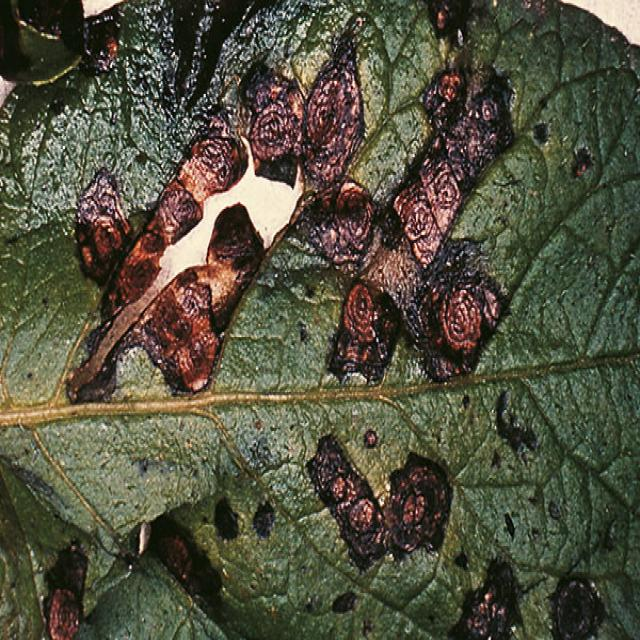earlyblight: (68, 17, 514, 402), (308, 437, 452, 569), (0, 539, 89, 639), (149, 515, 221, 620), (449, 558, 521, 640), (551, 577, 605, 640)
